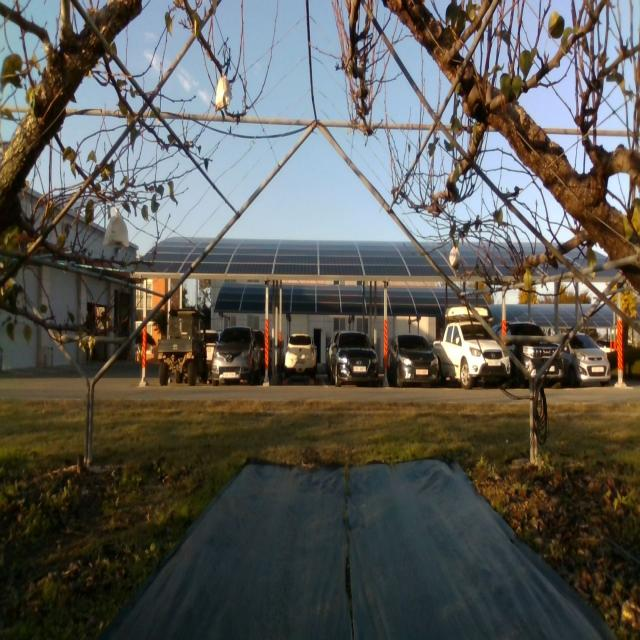pearbags: (102, 215, 130, 247), (214, 76, 231, 112), (449, 247, 460, 267)
